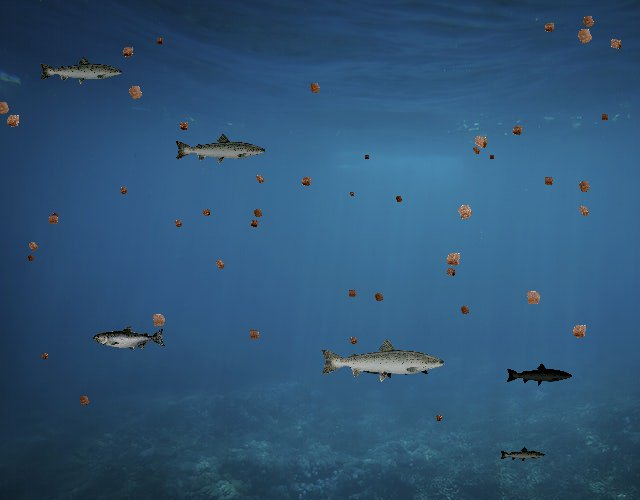Fish: (318, 337, 447, 383), (174, 132, 268, 166), (38, 55, 124, 86), (350, 351, 431, 380), (94, 326, 167, 352), (506, 362, 574, 386), (499, 447, 546, 464)
Pellet: (439, 245, 468, 274), (565, 318, 593, 346), (467, 128, 494, 155), (572, 174, 596, 198), (296, 171, 317, 192), (455, 301, 474, 320), (345, 332, 362, 349), (38, 349, 52, 363)
